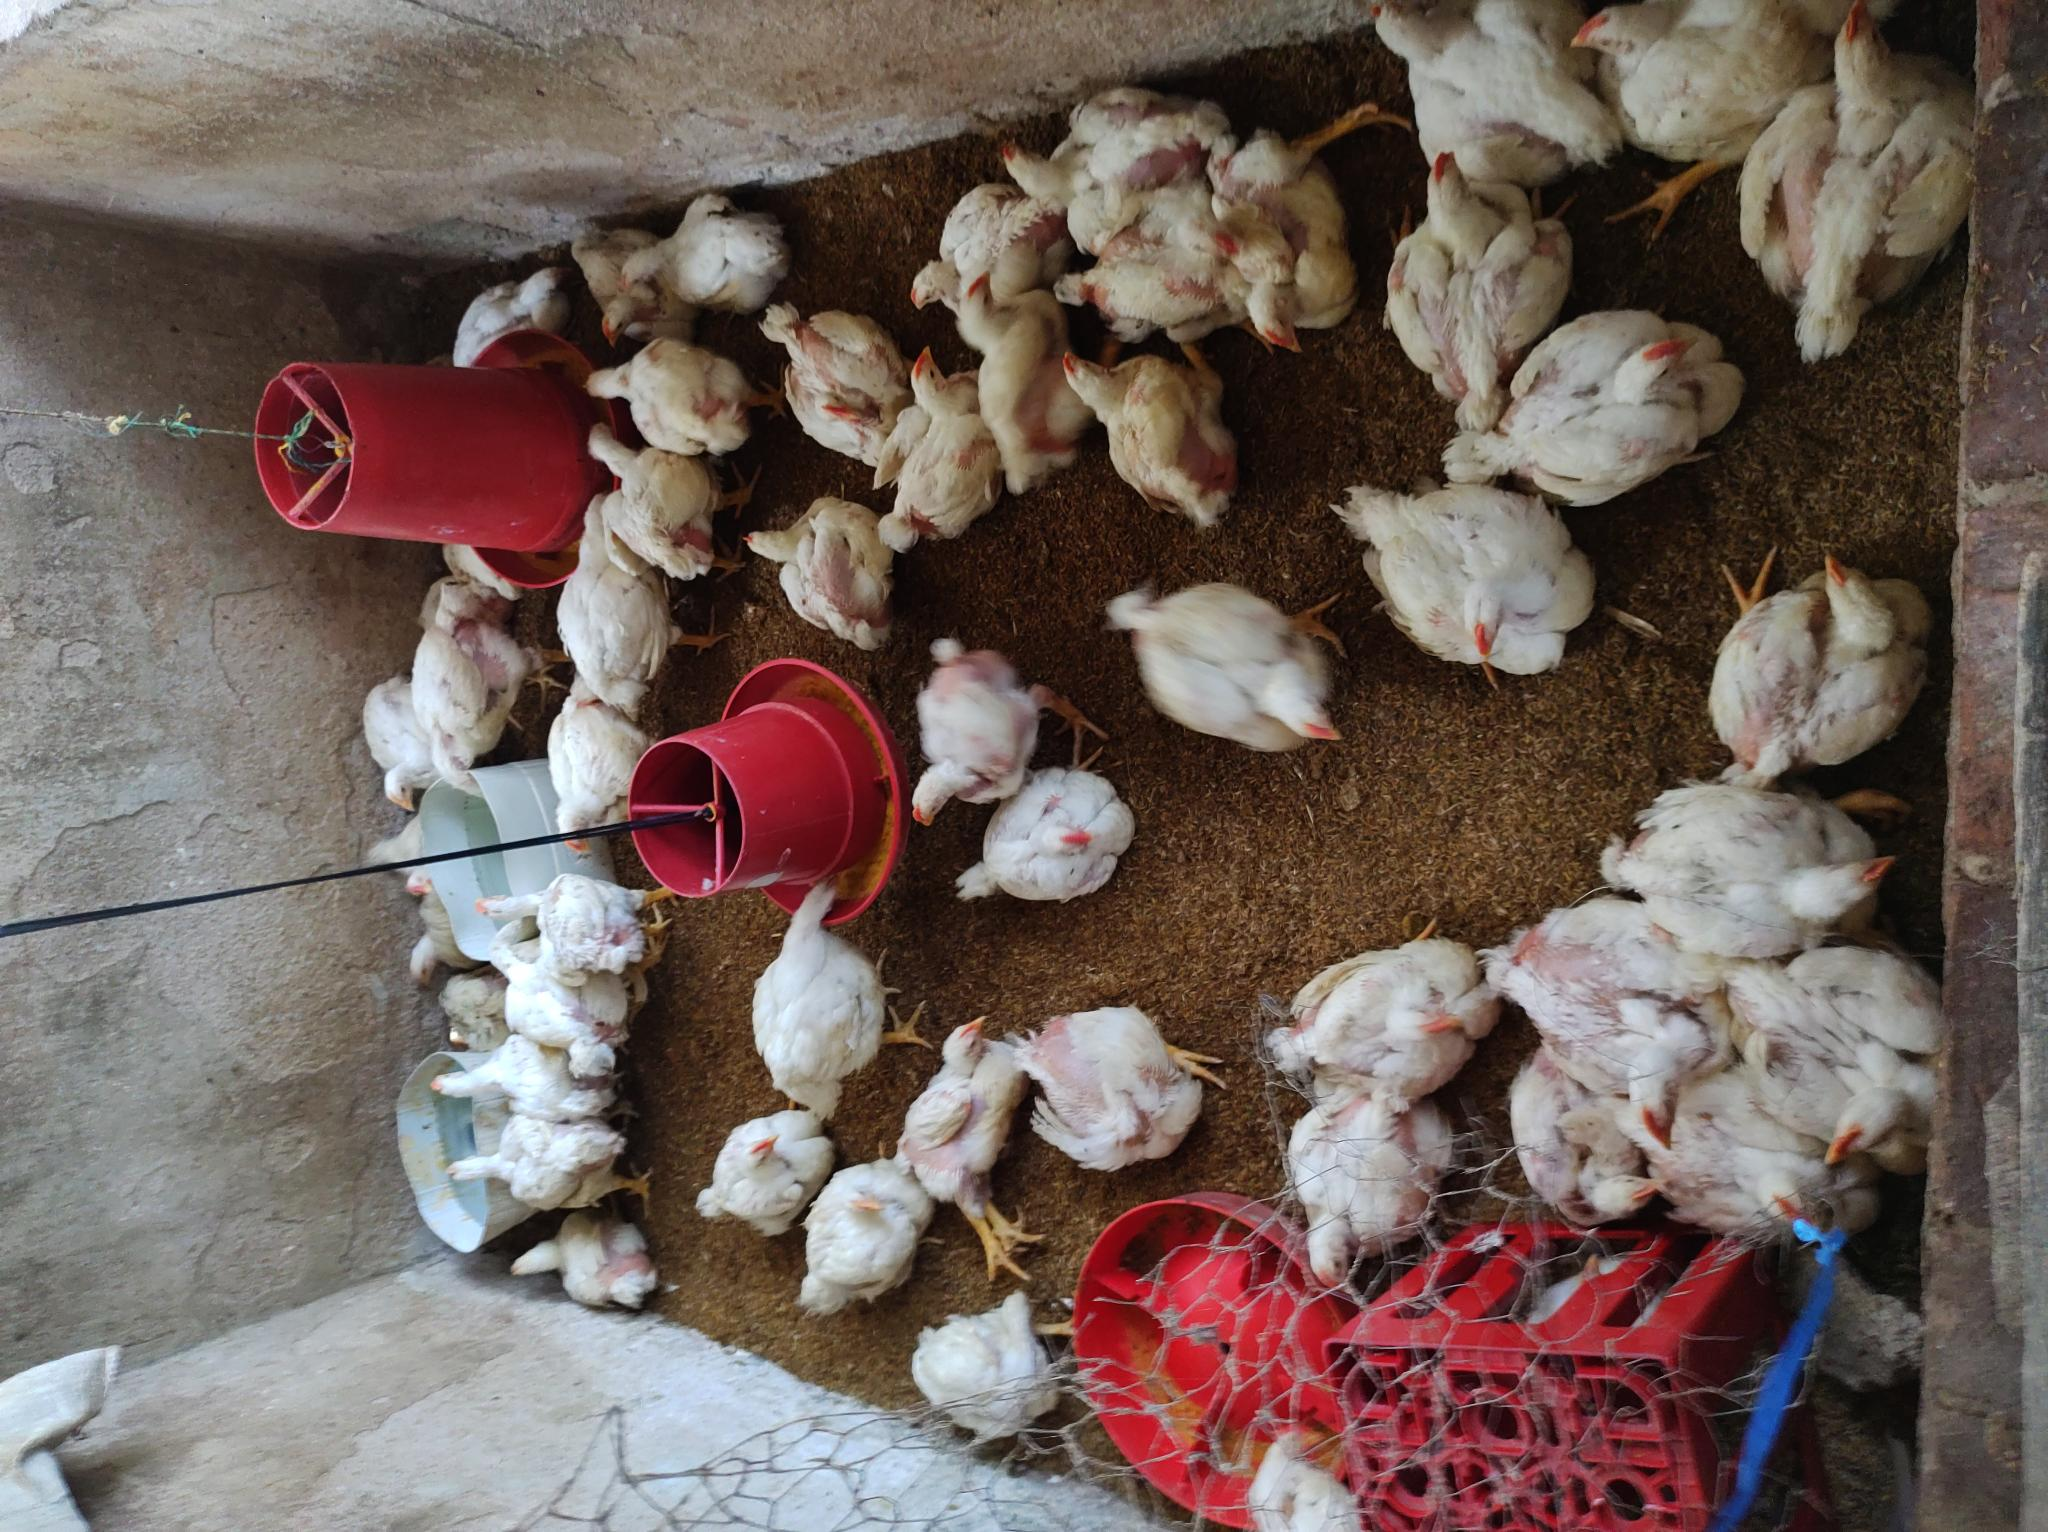Pollos: (1741, 0, 1960, 380), (1438, 306, 1746, 513), (1324, 451, 1588, 686), (1585, 777, 1902, 954), (1369, 138, 1561, 418), (1358, 0, 1622, 200), (1702, 563, 1921, 785), (1752, 916, 1940, 1172), (1105, 587, 1351, 769), (1557, 0, 1824, 164), (1470, 877, 1729, 1044), (1252, 919, 1488, 1099), (886, 624, 1059, 842), (1208, 121, 1356, 367), (1273, 1088, 1454, 1287), (993, 80, 1244, 224), (1055, 344, 1239, 533), (742, 871, 880, 1114), (1491, 1044, 1657, 1233), (1014, 1011, 1202, 1176), (1652, 1081, 1857, 1225), (956, 261, 1083, 486), (956, 760, 1141, 909), (1065, 188, 1258, 332), (560, 486, 682, 711), (891, 1011, 1025, 1217), (877, 343, 1010, 542), (409, 599, 533, 801), (903, 1287, 1059, 1439), (598, 410, 730, 579), (433, 1110, 642, 1217), (576, 340, 767, 451), (615, 190, 788, 311), (771, 309, 917, 452), (742, 496, 890, 636), (911, 183, 1059, 322), (542, 669, 650, 859), (504, 948, 637, 1085), (803, 1163, 914, 1324), (475, 871, 653, 970), (430, 1035, 626, 1122), (507, 1204, 661, 1312), (692, 1114, 825, 1234), (568, 225, 697, 349), (1231, 1415, 1363, 1532), (447, 264, 576, 372), (352, 673, 433, 816), (425, 967, 528, 1052), (401, 898, 467, 998), (367, 829, 442, 904)
